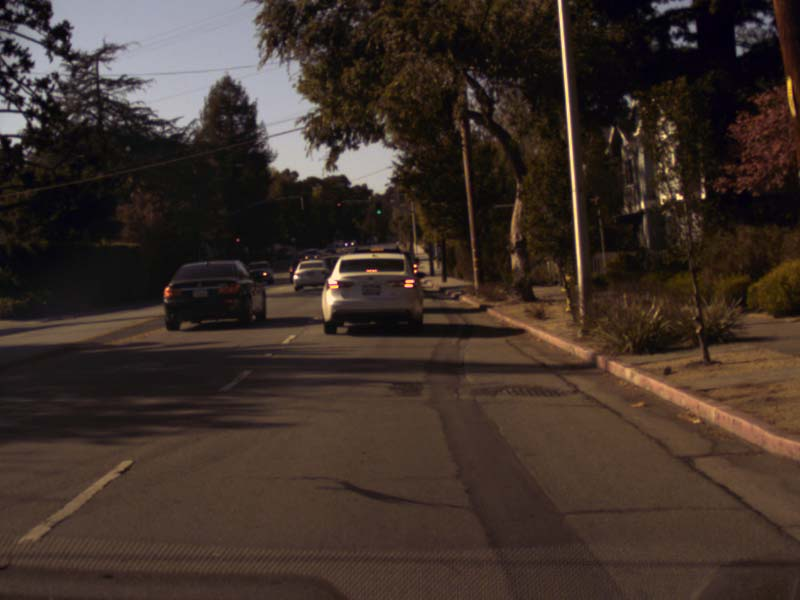Green: (376, 202, 381, 215)
Red: (336, 201, 341, 215), (235, 237, 240, 249)
